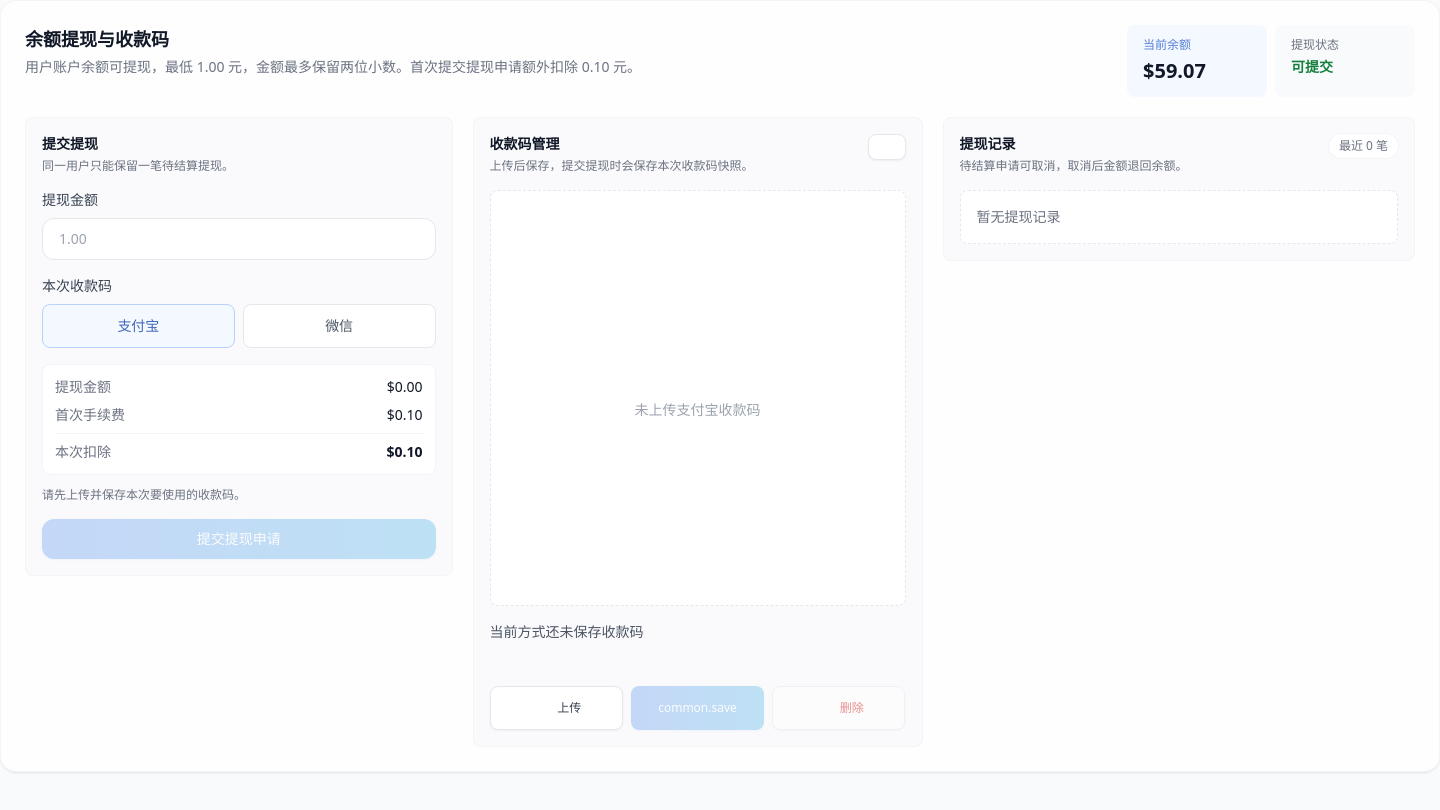
ProfileWithdrawalCard › keeps the withdrawal card mounted when amount is typed
In the field with placeholder "1.00": {"x": 239, "y": 239} [42,218,436,260], type "1.23"
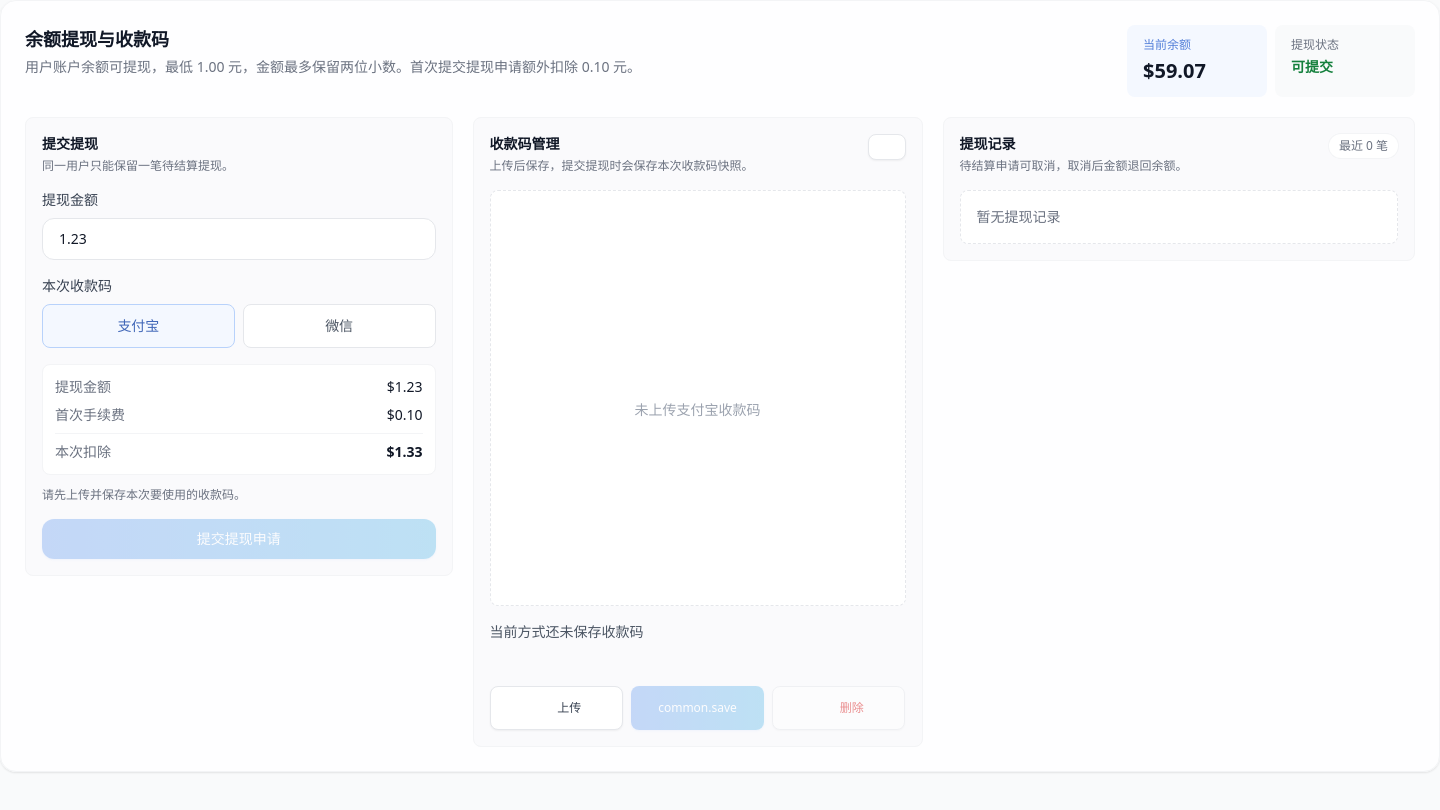
Check: the text "余额提现与收款码" is shown, box [25,27,169,51]
Check: the text "$1.23" is shown, box [387,377,422,397]
